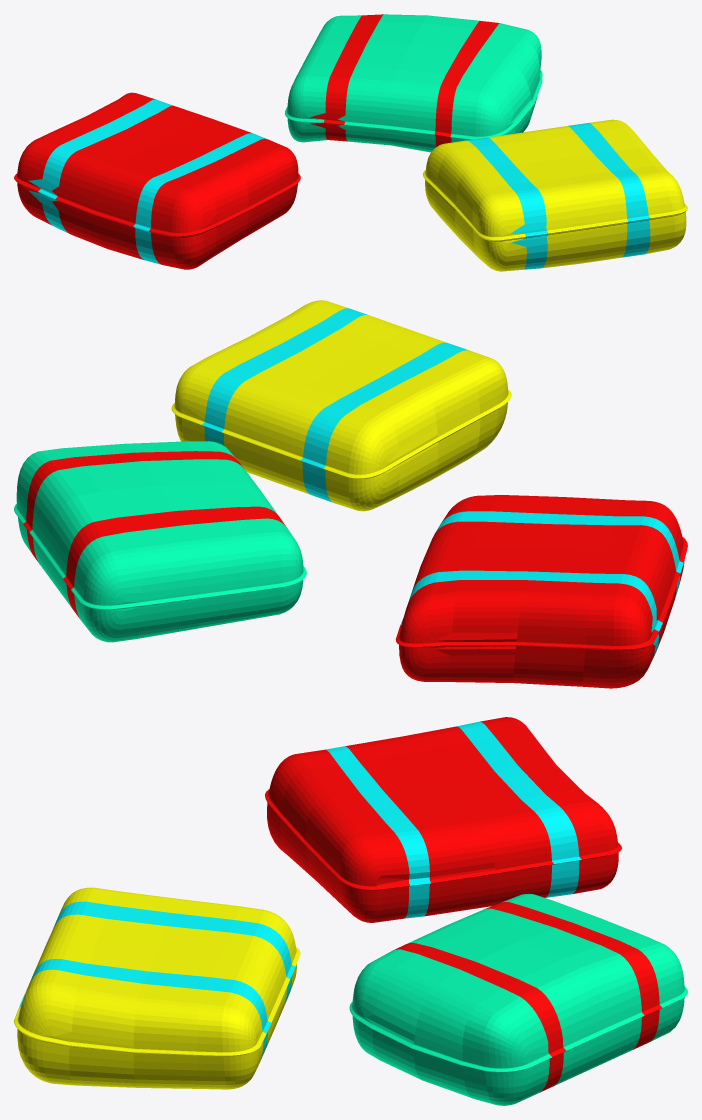
The model's file is Cushions.glb.
3 renders of one model, top to bottom at view 1: azimuth 30°, elevation 25°; view 2: azimuth 150°, elevation 25°; view 3: azimuth 270°, elevation 25°, orthographic. The views are drawn at different scales.
Parts seen in each view (by area): view 1: node-0; view 2: node-0; view 3: node-0.
Part boxes in pixels (x1,y1,x2,y2): node-0: (14,14,687,271); node-0: (14,300,687,688); node-0: (14,717,687,1105).
Size of the model in its own units: 508010 by 81150 by 462325.
